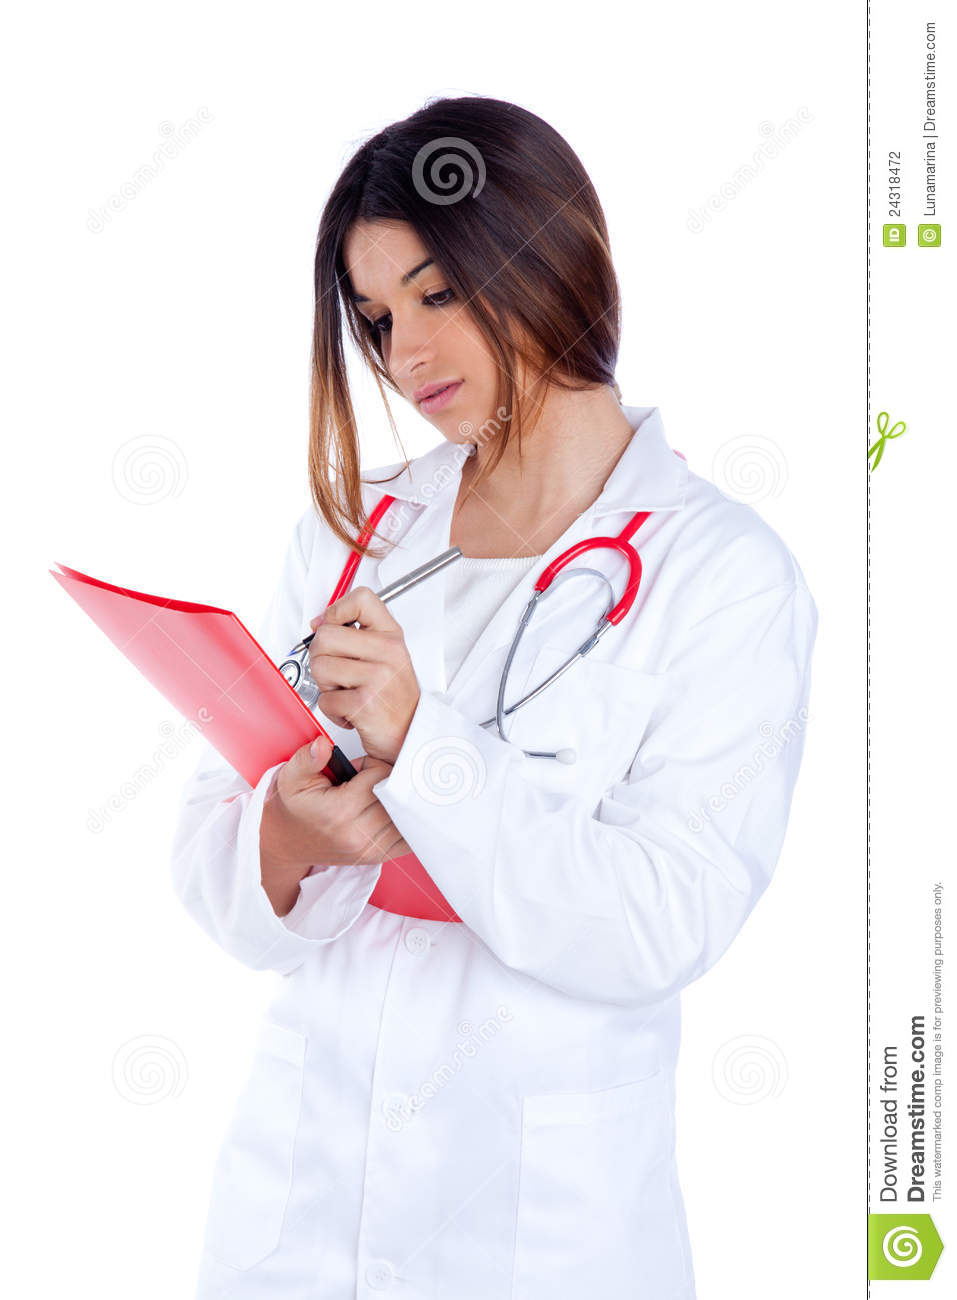red folder: (41, 540, 475, 939)
